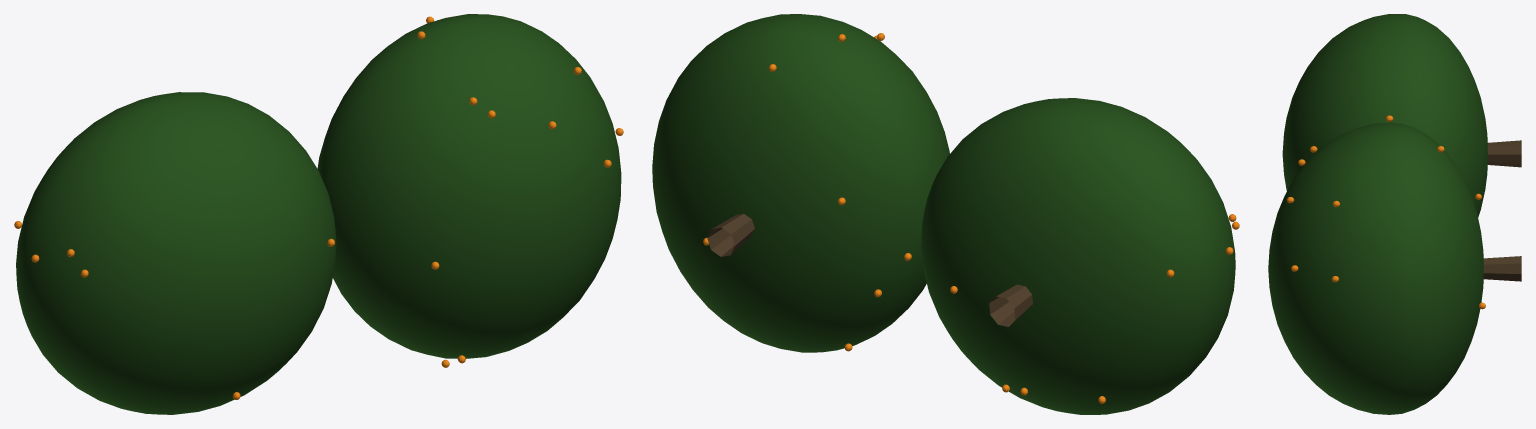
Rendered from citrus_plain2_b_fruit.obj.
3 renders of one model, left to right at view 1: azimuth 30°, elevation 25°; view 2: azimuth 150°, elevation 25°; view 3: azimuth 270°, elevation 25°, orthographic. The views are drawn at different scales.
Visible parts, largest first — view 1: canopy, fruit; view 2: canopy, trunk, fruit; view 3: canopy, trunk, fruit.
Part boxes in pixels (box(x1,y1,x2,y2)): canopy: box(16, 14, 621, 414); fruit: box(14, 16, 623, 399); canopy: box(652, 14, 1235, 414); trunk: box(707, 213, 1032, 326); fruit: box(703, 33, 1239, 403); canopy: box(1268, 14, 1487, 414); trunk: box(1483, 140, 1521, 281); fruit: box(1287, 115, 1485, 309).
Size of the model in its own units: 6.03 by 3.27 by 2.78.
